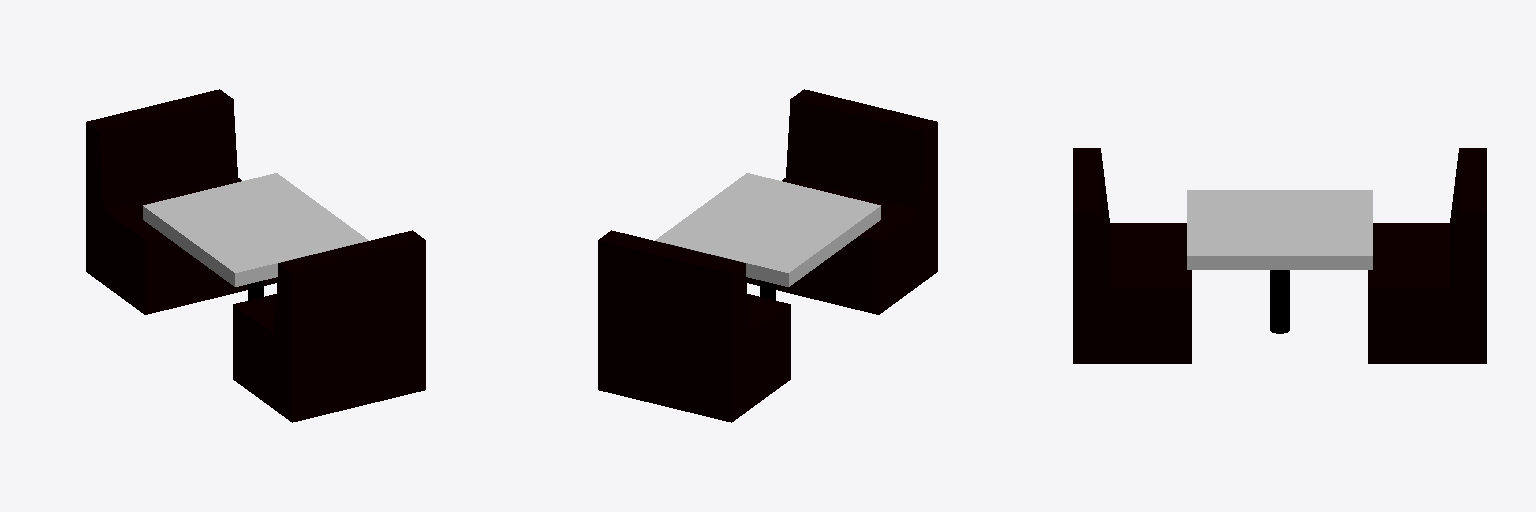
File: 2cadeiras_1mesa.obj
The picture shows the model from 3 angles: view 1: azimuth 30°, elevation 25°; view 2: azimuth 150°, elevation 25°; view 3: azimuth 270°, elevation 25°; orthographic projection.
Parts seen in each view (by area): view 1: 28mm_Restaurant_Booth_Small_28mm_Restaurant_Booth_Small.004, 28mm_Restaurant_Booth_Small.001_28mm_Restaurant_Booth_Small.007; view 2: 28mm_Restaurant_Booth_Small_28mm_Restaurant_Booth_Small.004, 28mm_Restaurant_Booth_Small.001_28mm_Restaurant_Booth_Small.007; view 3: 28mm_Restaurant_Booth_Small_28mm_Restaurant_Booth_Small.004, 28mm_Restaurant_Booth_Small.001_28mm_Restaurant_Booth_Small.007, 28mm_Restaurant_Booth_Small.002_28mm_Restaurant_Booth_Small.006.
Boxes of the visible parts, x1,y1,x2,y2 form: 28mm_Restaurant_Booth_Small_28mm_Restaurant_Booth_Small.004: [86, 89, 425, 422]; 28mm_Restaurant_Booth_Small.001_28mm_Restaurant_Booth_Small.007: [143, 173, 368, 286]; 28mm_Restaurant_Booth_Small_28mm_Restaurant_Booth_Small.004: [598, 89, 937, 422]; 28mm_Restaurant_Booth_Small.001_28mm_Restaurant_Booth_Small.007: [655, 173, 880, 286]; 28mm_Restaurant_Booth_Small_28mm_Restaurant_Booth_Small.004: [1073, 148, 1486, 363]; 28mm_Restaurant_Booth_Small.001_28mm_Restaurant_Booth_Small.007: [1187, 190, 1372, 269]; 28mm_Restaurant_Booth_Small.002_28mm_Restaurant_Booth_Small.006: [1270, 270, 1289, 333].
Bounding box in the file's own units: 15 × 16 × 40.